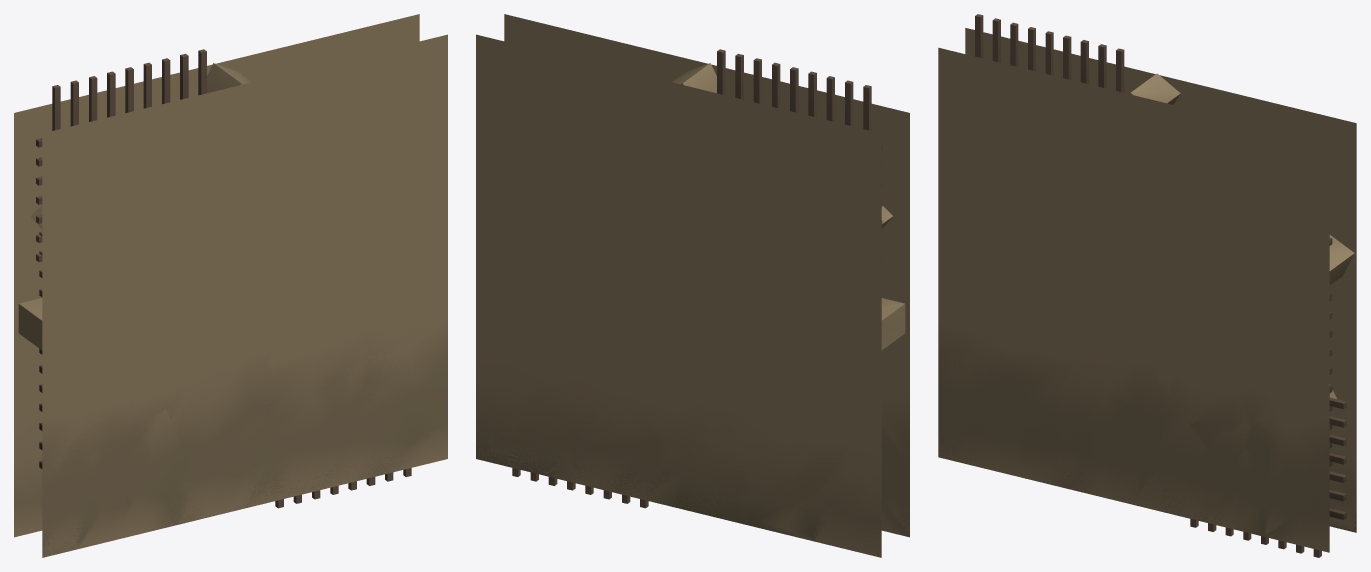
Rendered from bld.jp_house.wall_panel.mo.glb.
The picture shows the model from 3 angles, left to right: view 1: azimuth 30°, elevation 25°; view 2: azimuth 150°, elevation 25°; view 3: azimuth 330°, elevation 25°; orthographic projection. The views are drawn at different scales.
Visible parts, largest first — view 1: v0_LOD0, v1_LOD0, v2_LOD0, v3_LOD0; view 2: v0_LOD0, v1_LOD0, v2_LOD0, v3_LOD0; view 3: v0_LOD0, v1_LOD0, v2_LOD0, v3_LOD0.
Part boxes in pixels (x1=…): v0_LOD0: x1=14, y1=14, x2=447, y2=557; v1_LOD0: x1=14, y1=22, x2=447, y2=556; v2_LOD0: x1=14, y1=23, x2=447, y2=556; v3_LOD0: x1=14, y1=23, x2=447, y2=556; v0_LOD0: x1=476, y1=14, x2=909, y2=557; v1_LOD0: x1=476, y1=14, x2=909, y2=548; v2_LOD0: x1=476, y1=15, x2=909, y2=548; v3_LOD0: x1=476, y1=15, x2=909, y2=548; v0_LOD0: x1=938, y1=28, x2=1356, y2=552; v1_LOD0: x1=938, y1=28, x2=1356, y2=544; v2_LOD0: x1=938, y1=28, x2=1356, y2=543; v3_LOD0: x1=938, y1=14, x2=1356, y2=557.
Size of what is drawn, in the model's own units: 1 by 1.12 by 0.12.
